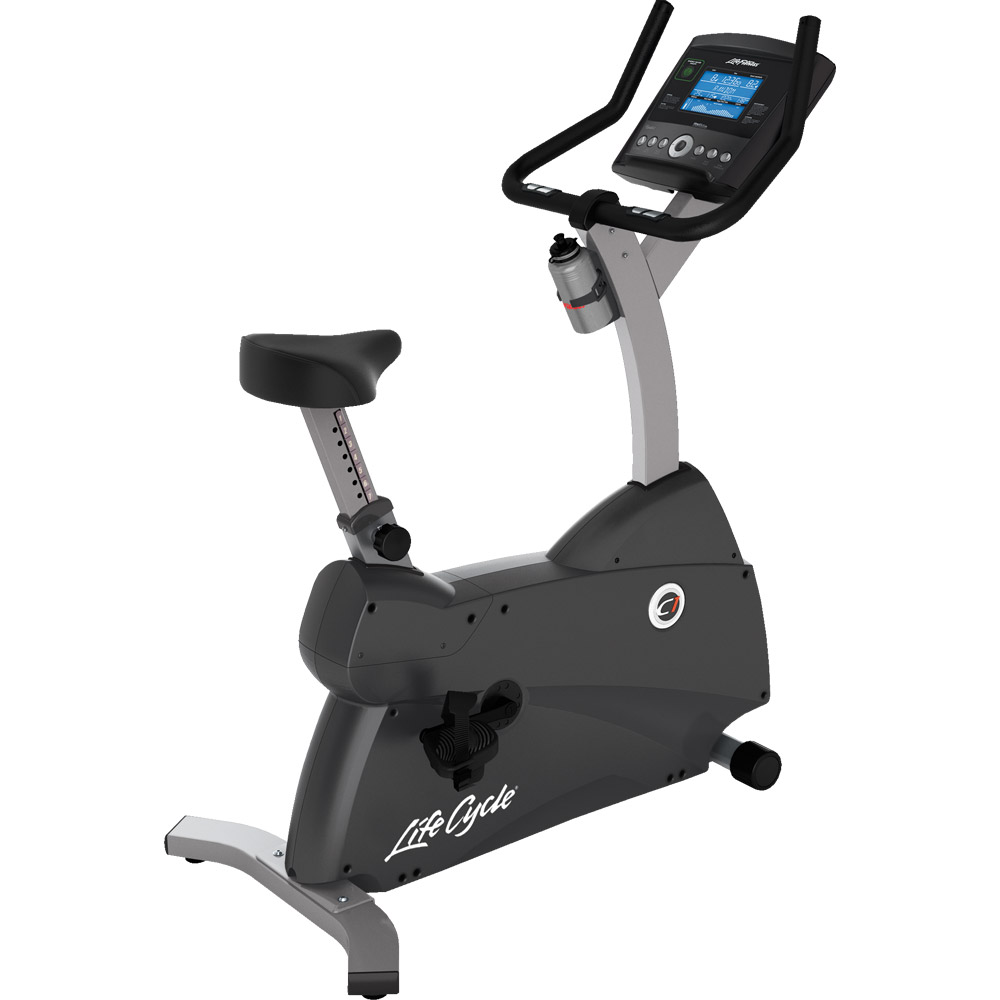gym_bike: (175, 9, 837, 989)
